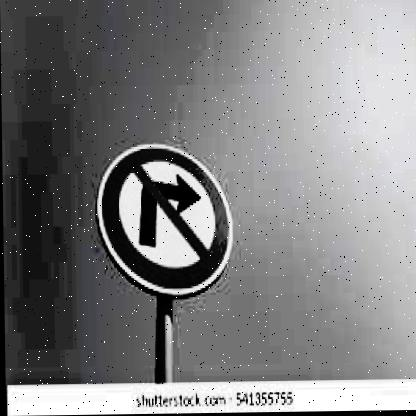No right turn: (96, 139, 229, 297)
